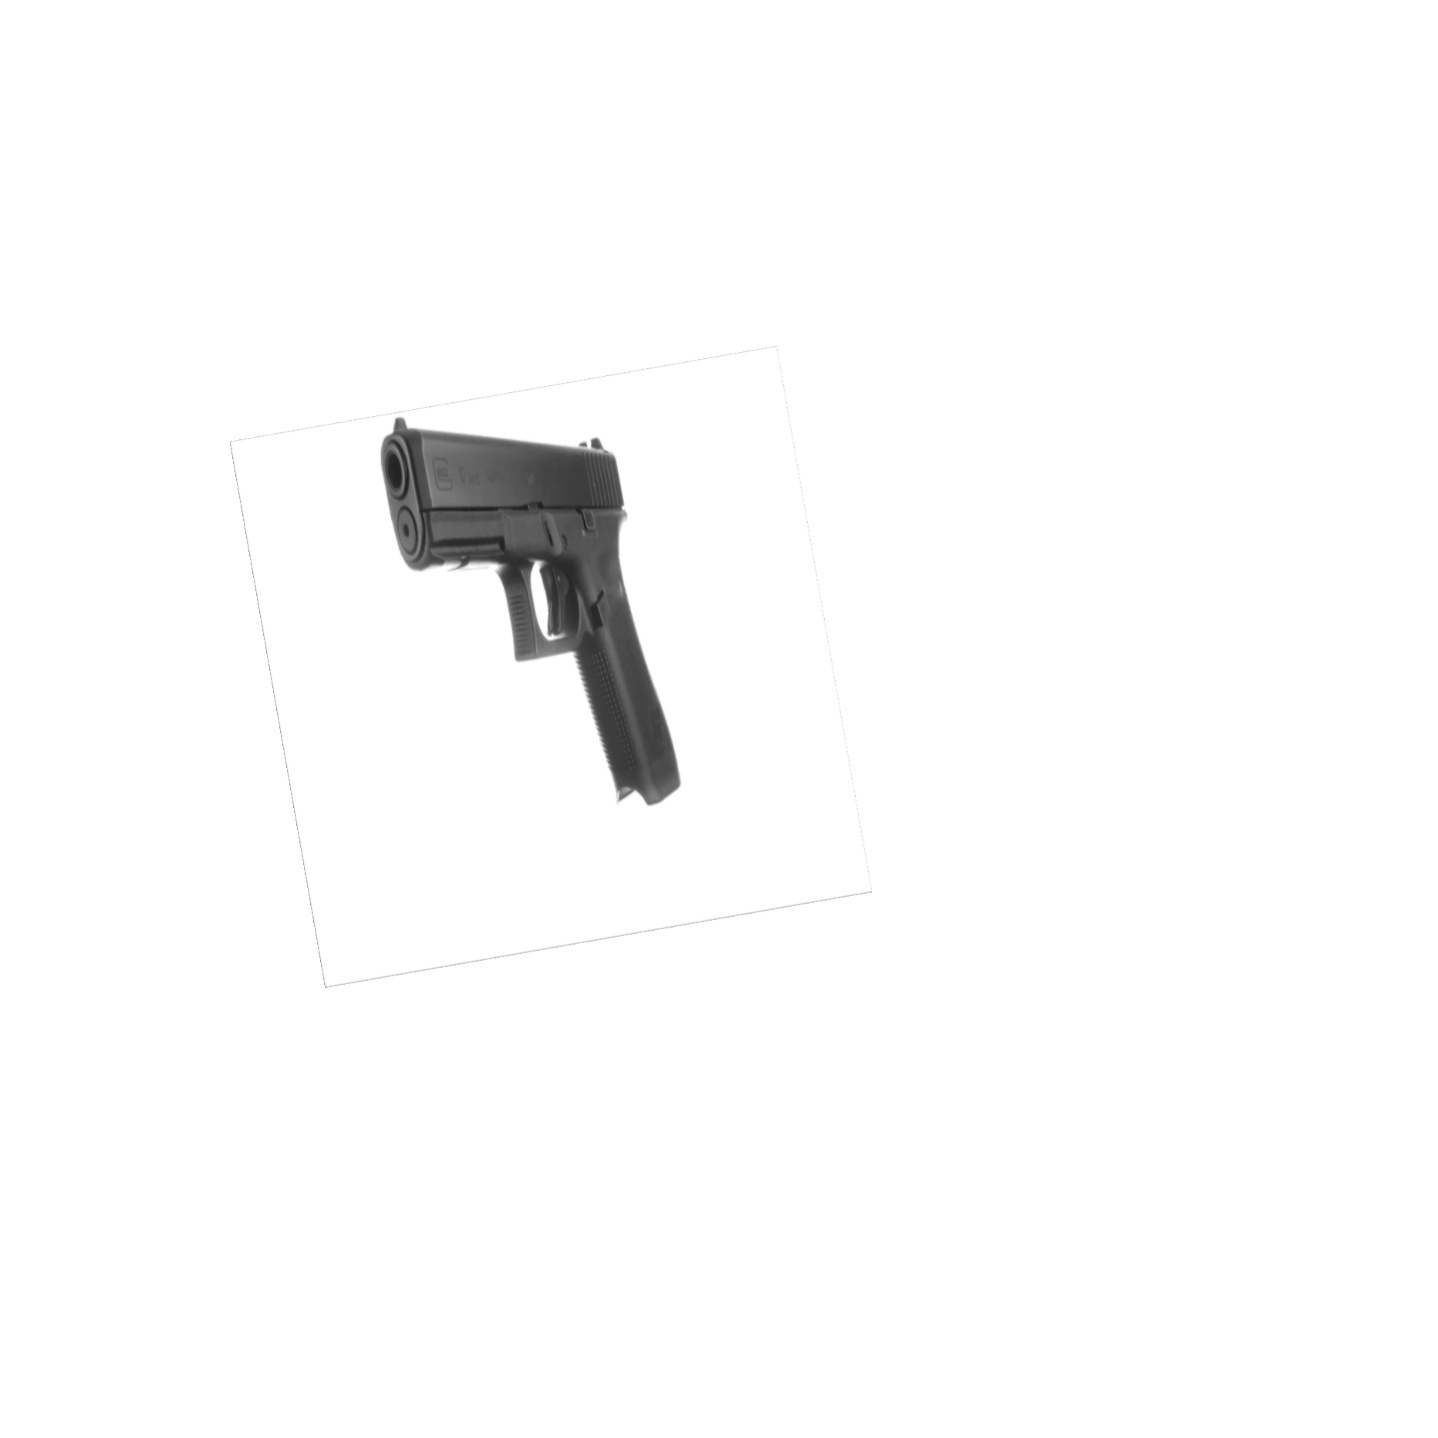gun: (375, 410, 686, 827)
